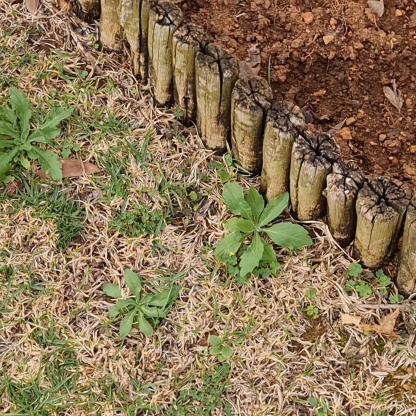Weeds: (217, 182, 315, 278), (0, 88, 76, 178), (104, 268, 176, 339), (211, 335, 233, 361)
